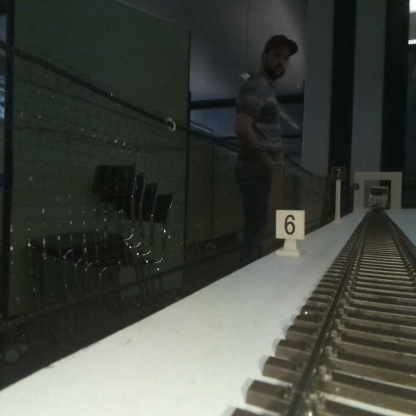black-info-7: (332, 167, 345, 222)
white-stop-6: (276, 210, 305, 255)
